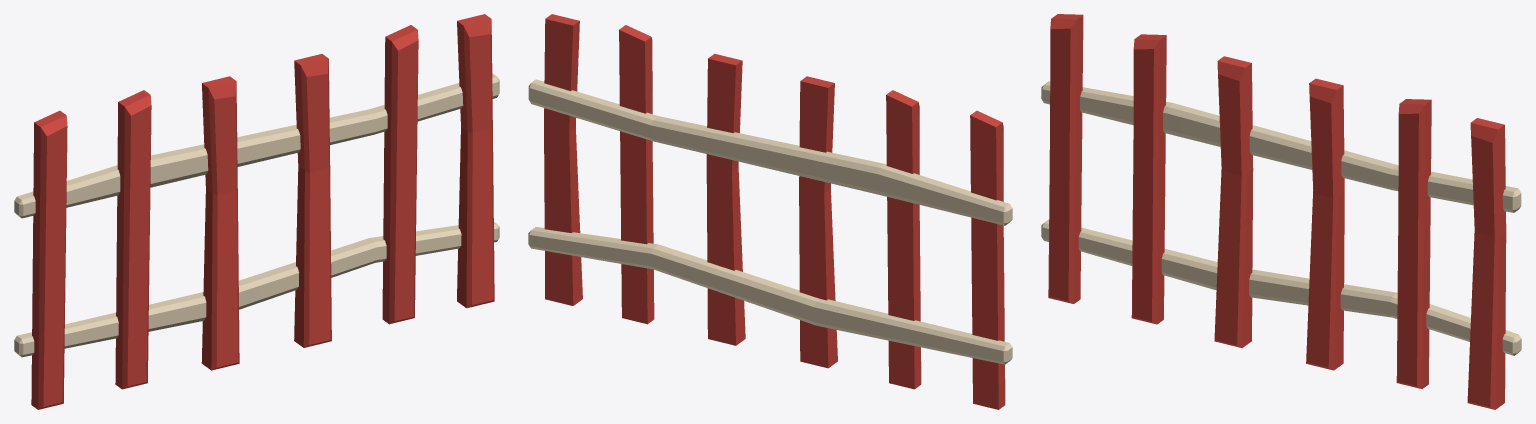
Rendered from fence_j.gltf.
The picture shows the model from 3 angles, left to right: view 1: azimuth 30°, elevation 25°; view 2: azimuth 150°, elevation 25°; view 3: azimuth 330°, elevation 25°; orthographic projection.
Parts seen in each view (by area): view 1: fence_j001; view 2: fence_j001; view 3: fence_j001.
Boxes of the visible parts, bbox=[...] form: fence_j001: bbox=[14, 14, 499, 409]; fence_j001: bbox=[528, 14, 1012, 409]; fence_j001: bbox=[1041, 14, 1521, 409].
Bounding box in the file's own units: 0.8284 × 0.4744 × 0.0521.
1 material, 1 textured.
